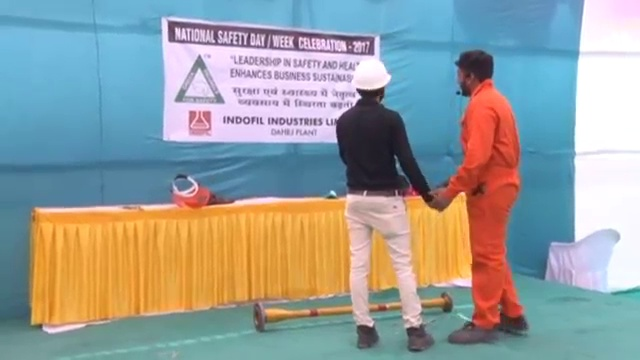helmet: (351, 57, 392, 92)
helmet_off: (454, 50, 497, 99)
helmet_on: (348, 57, 394, 104)
person: (335, 55, 438, 350), (439, 47, 531, 339)
